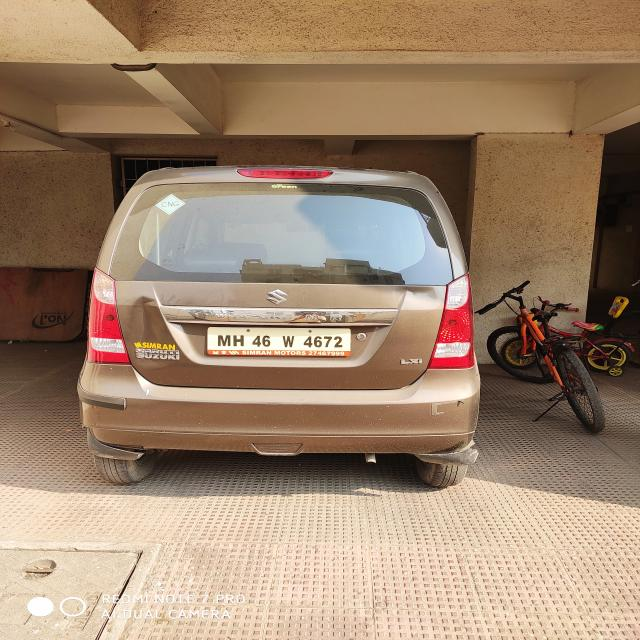Number-Plate: (212, 325, 346, 354)
